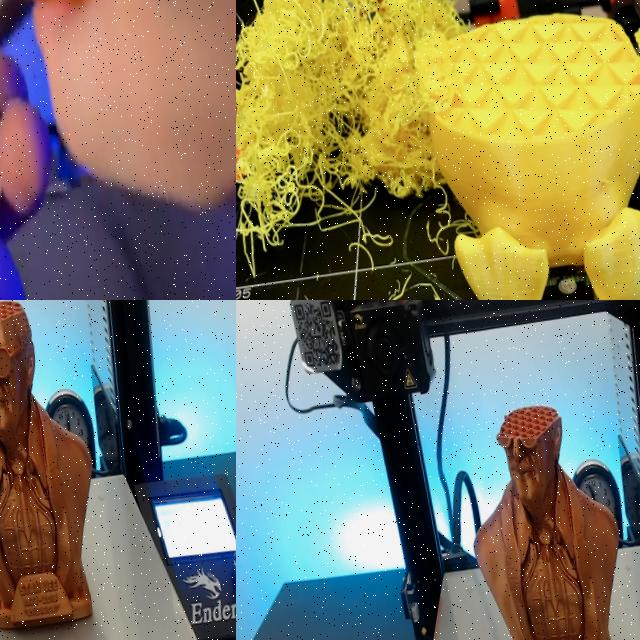spaghetti: (236, 0, 512, 300)
